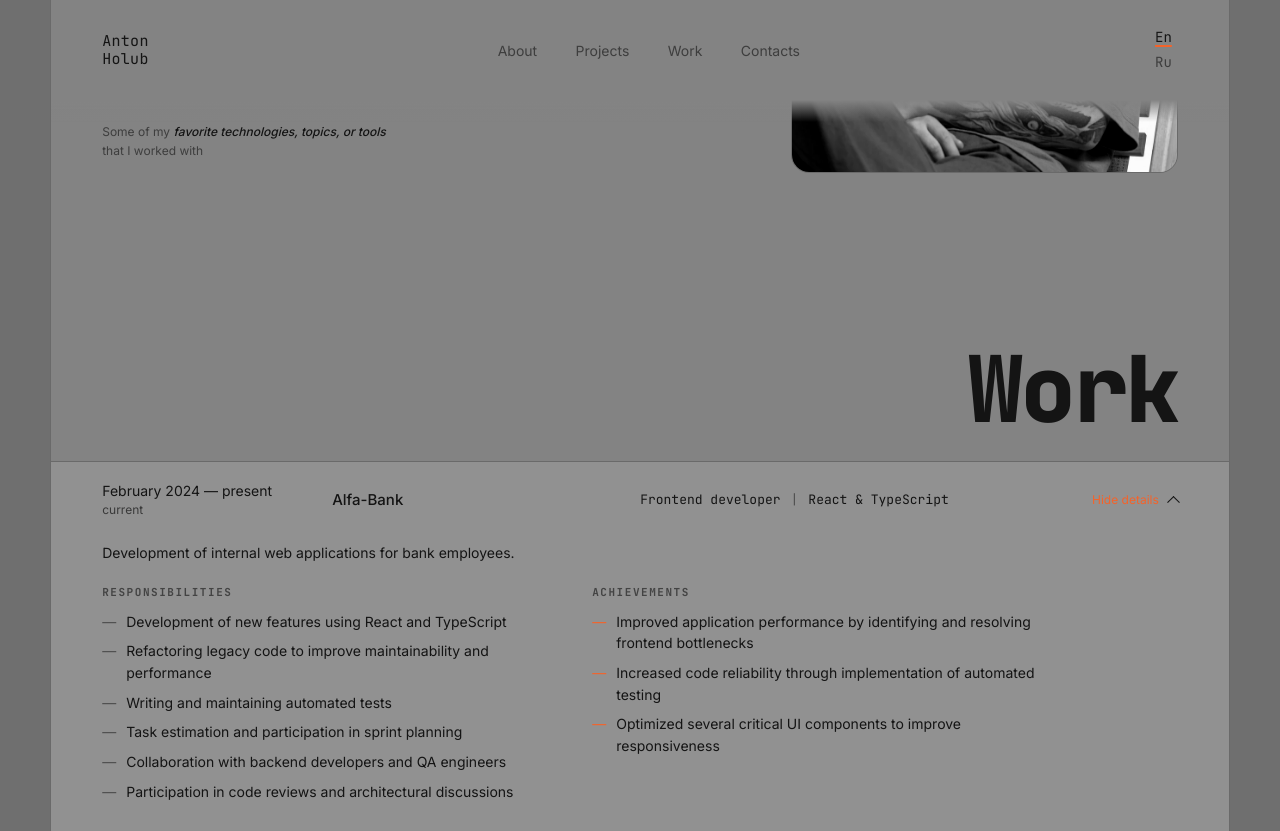
it: reading the work history › collapses a job when its row is clicked again
(page scrolled)
Step 1. Click the button "Alfa-Bank" → click(640, 500), box [51, 462, 1229, 538]
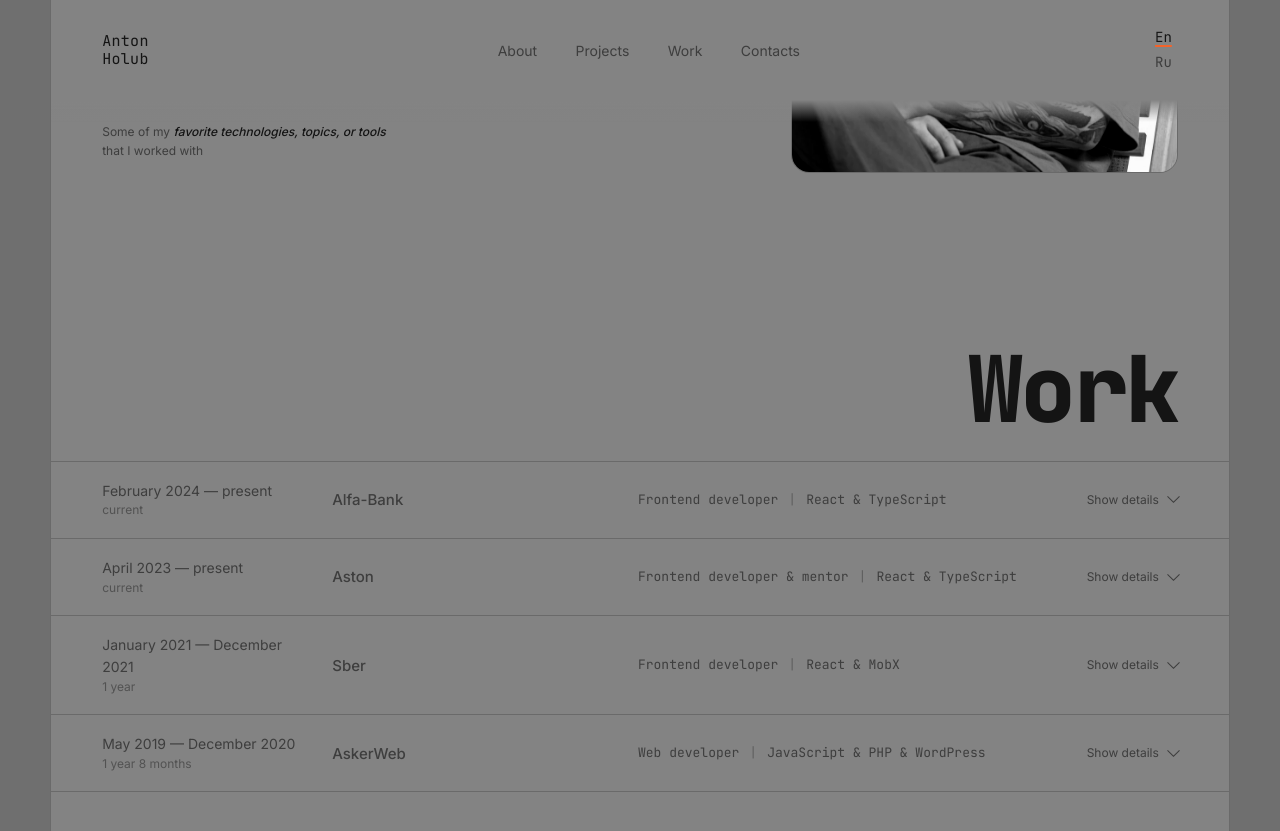
Expected: the button "Alfa-Bank" is collapsed, [51, 462, 1229, 538]
